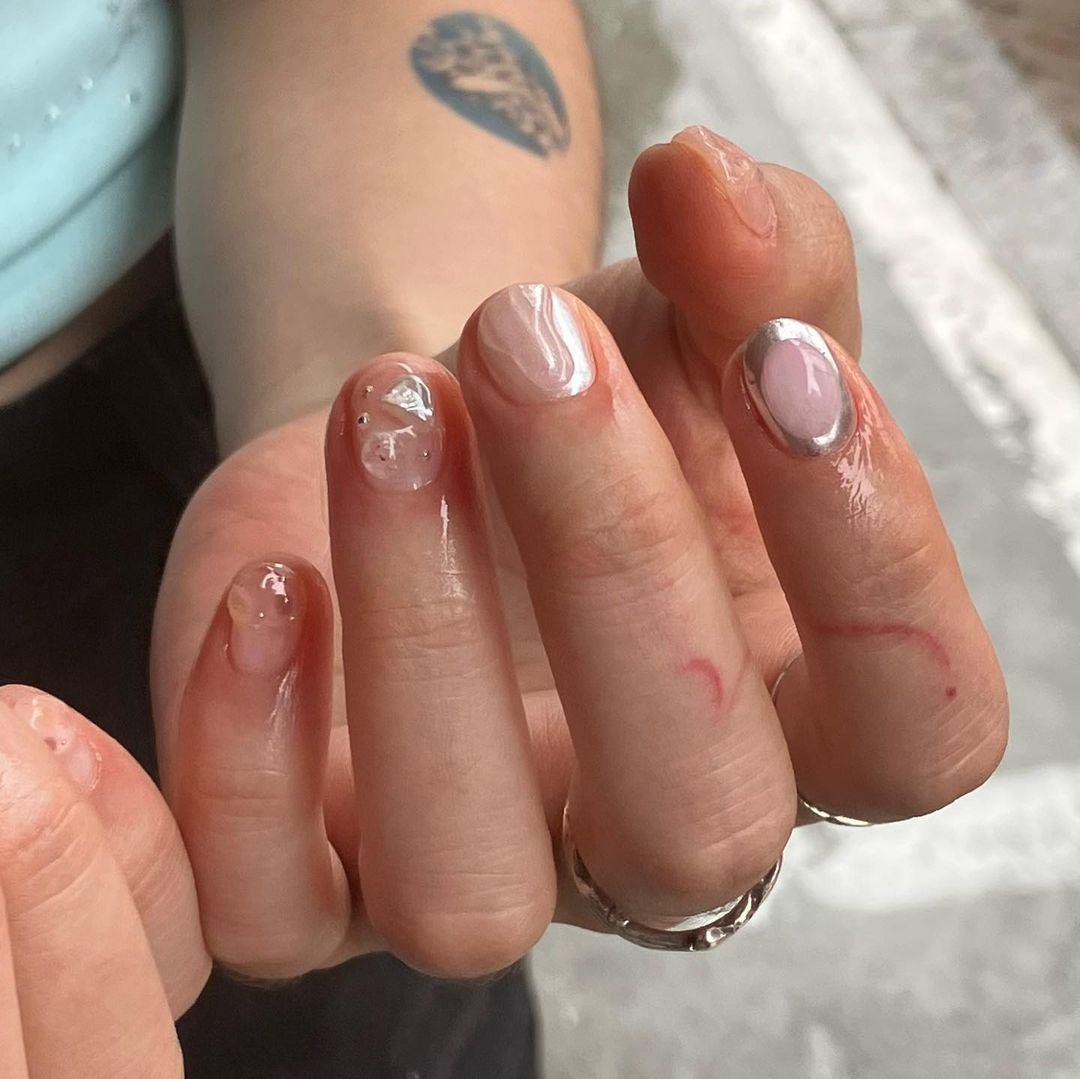nail: (736, 315, 857, 459), (473, 281, 597, 405), (669, 122, 778, 240), (352, 359, 444, 492), (223, 558, 306, 677)
